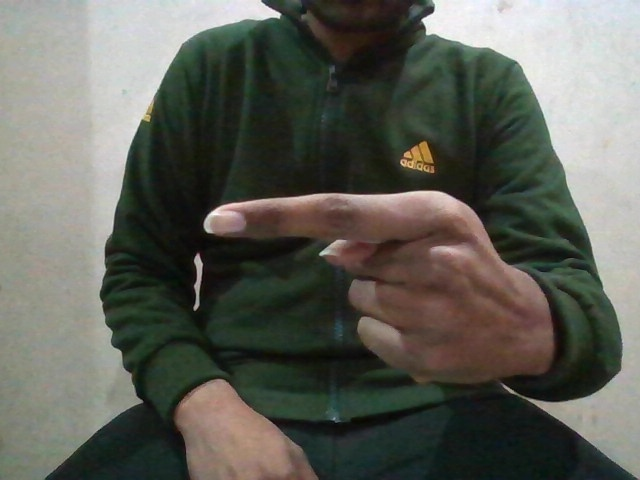G: (202, 194, 545, 376)
